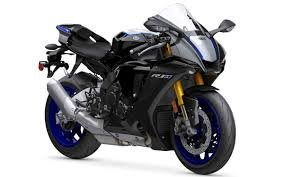motor: (44, 20, 235, 175)
